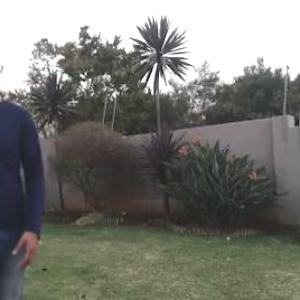follow: (1, 51, 44, 299)
